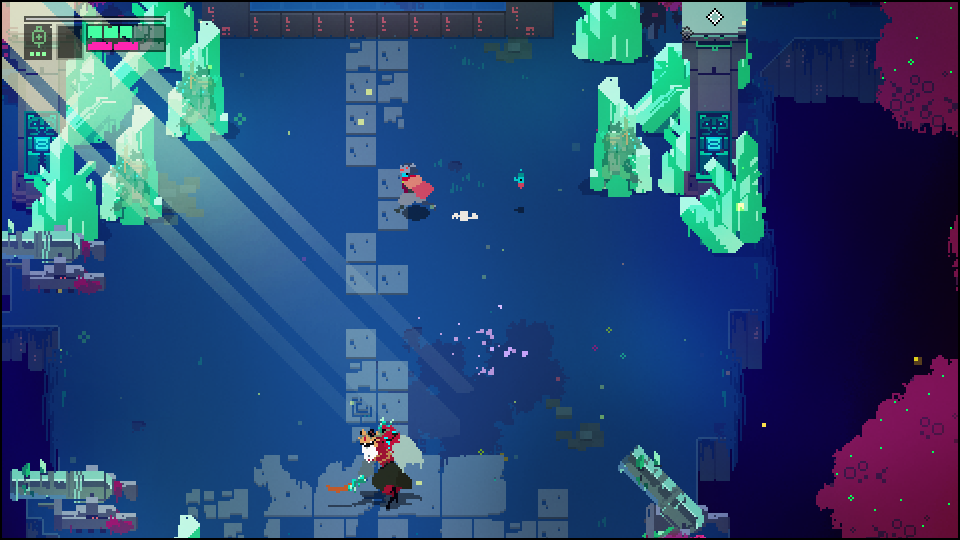hanged_man: (342, 420, 435, 511)
player: (392, 160, 434, 216)
